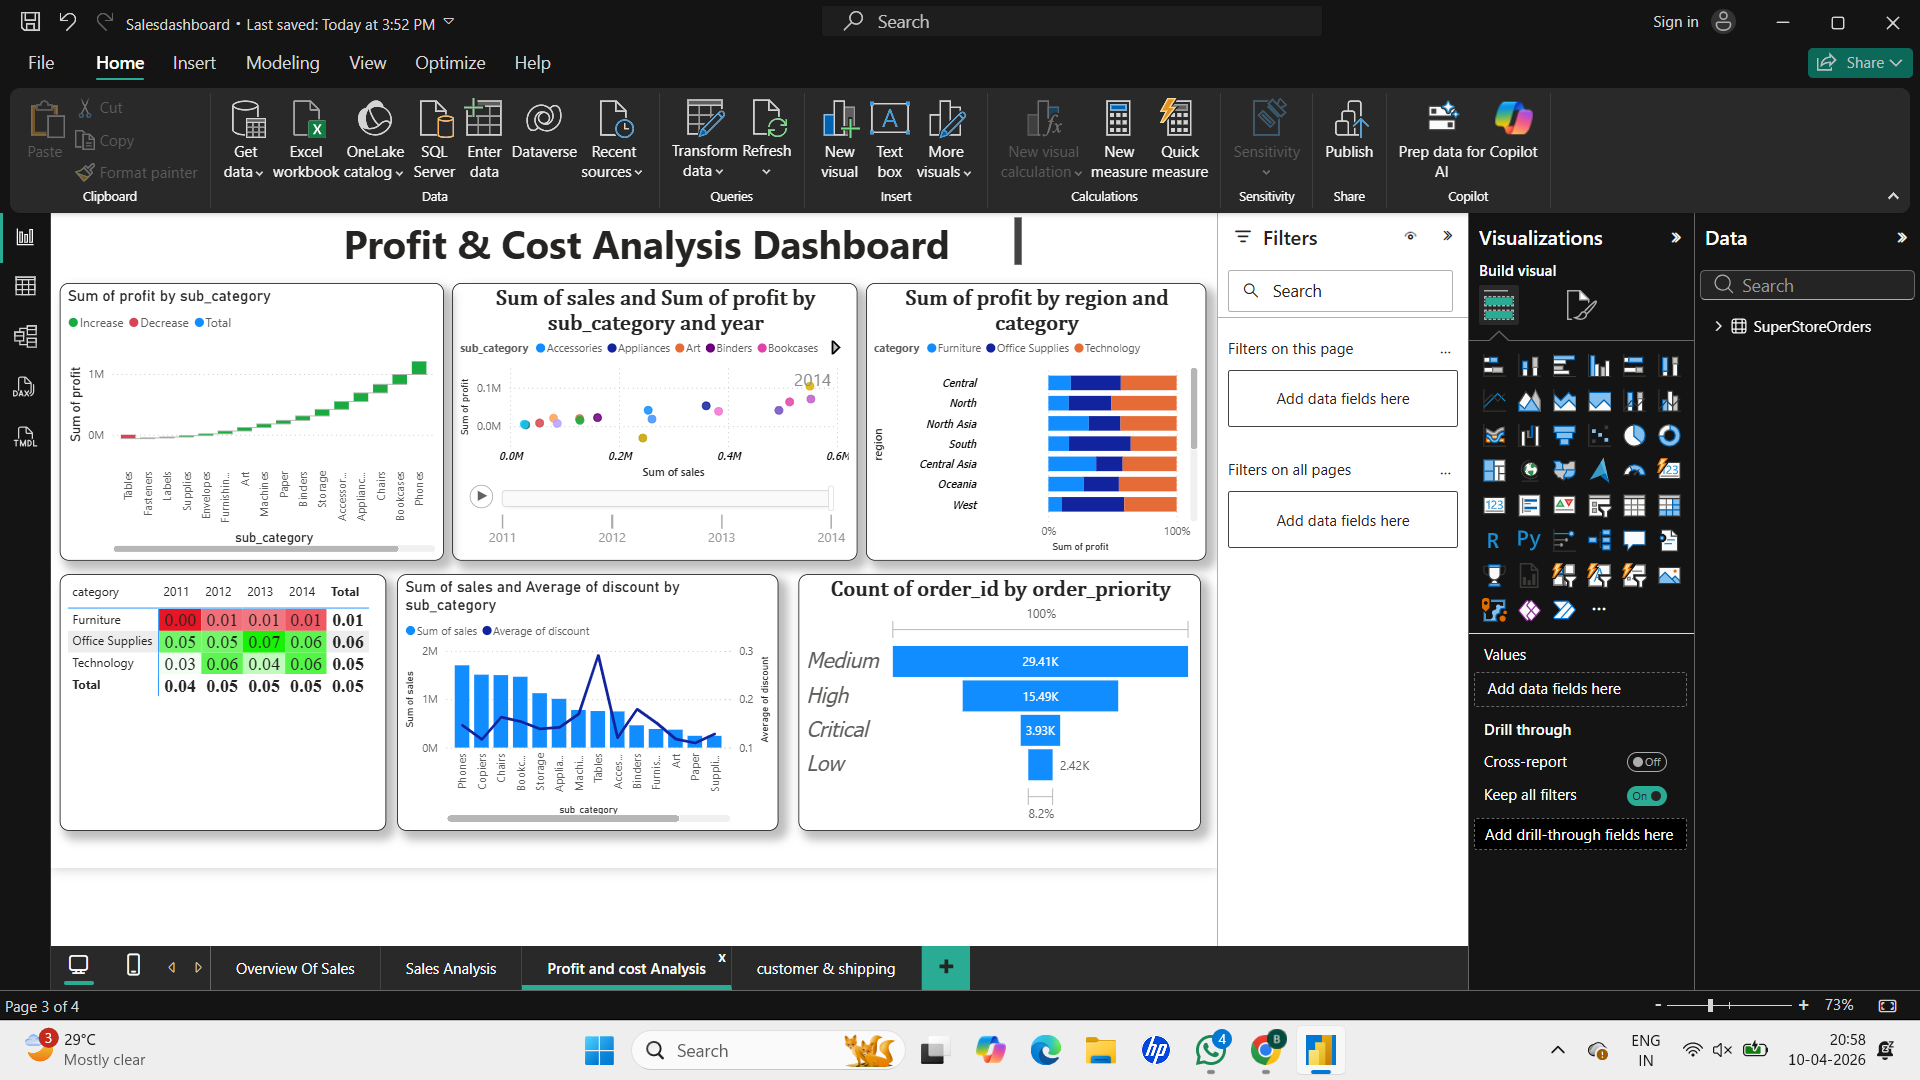

The dashboard page shown, as its layout file describes it:
{"tool":"powerbi","page":{"name":"Profit and cost Analysis","canvas":[1280,720],"ordinal":2},"visuals":[{"type":"scatterChart","fields":{"X":["SuperStoreOrders.sales"],"Y":["Sum(SuperStoreOrders.profit)"],"Play":["SuperStoreOrders.year"],"Series":["SuperStoreOrders.sub_category"]},"box":[440.5,76.8,444.6,304.6],"z":0},{"type":"waterfallChart","fields":{"Category":["SuperStoreOrders.sub_category"],"Y":["Sum(SuperStoreOrders.profit)"]},"box":[9.6,76.8,421.3,304.6],"z":1000},{"type":"pivotTable","fields":{"Rows":["SuperStoreOrders.category"],"Columns":["SuperStoreOrders.year"],"Values":["Avg(SuperStoreOrders.profit_margin)"]},"box":[9.6,396.6,358.1,281.3],"z":2000},{"type":"textbox","box":[245.6,0,824.7,64.5],"z":3000},{"type":"lineClusteredColumnComboChart","fields":{"Category":["SuperStoreOrders.sub_category"],"Y":["Sum(SuperStoreOrders.sales)"],"Y2":["Avg(SuperStoreOrders.discount)"]},"box":[380.1,396.6,418.5,281.3],"z":4000},{"type":"hundredPercentStackedBarChart","fields":{"Y":["Sum(SuperStoreOrders.profit)"],"Category":["SuperStoreOrders.region"],"Series":["SuperStoreOrders.category"]},"box":[894.7,76.8,373.2,304.6],"z":5000},{"type":"funnel","fields":{"Category":["SuperStoreOrders.order_priority"],"Y":["CountNonNull(SuperStoreOrders.order_id)"]},"box":[820.6,396.6,441.9,281.3],"z":6000}]}

Visuals, with their boxes on the page's 1280x720 design canvas (x1, y1, x2, y2). These are canvas units, not pixel positions in the 1920x1080 screenshot, which may show the page scaled, cropped or inside an application window:
scatterChart - SuperStoreOrders.sales x Sum(SuperStoreOrders.profit): [440,77,885,381]
waterfallChart - SuperStoreOrders.sub_category x Sum(SuperStoreOrders.profit): [10,77,431,381]
pivotTable - SuperStoreOrders.category x SuperStoreOrders.year: [10,397,368,678]
textbox: [246,0,1070,64]
lineClusteredColumnComboChart - SuperStoreOrders.sub_category x Sum(SuperStoreOrders.sales): [380,397,799,678]
hundredPercentStackedBarChart - Sum(SuperStoreOrders.profit) x SuperStoreOrders.region: [895,77,1268,381]
funnel - SuperStoreOrders.order_priority x CountNonNull(SuperStoreOrders.order_id): [821,397,1262,678]
